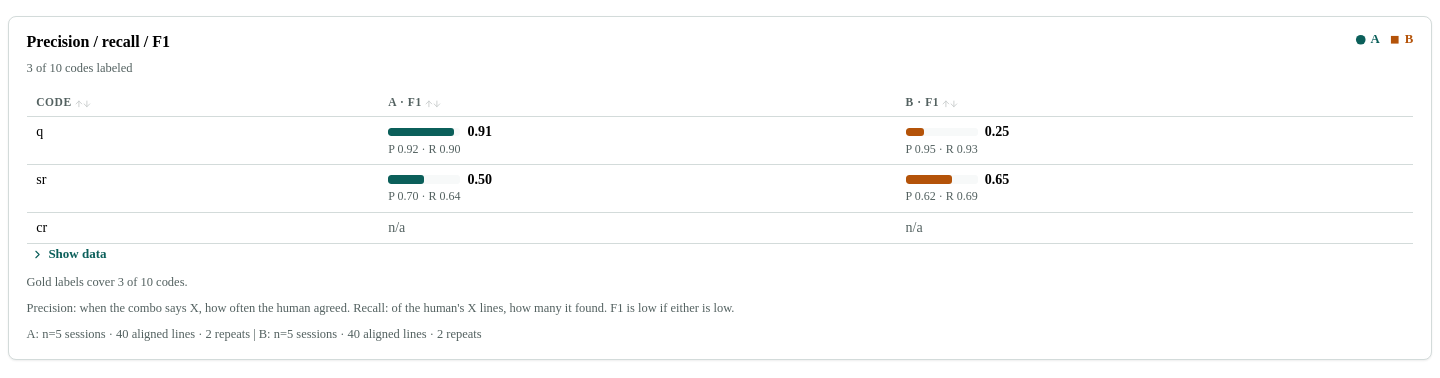
sorts by a combo F1 column
The width and height of the screenshot is (1440, 378).
Later steps or results of the test are not shown.
Click the column heading "A · F1" at x=637, y=103, box 379,89 -> 896,116
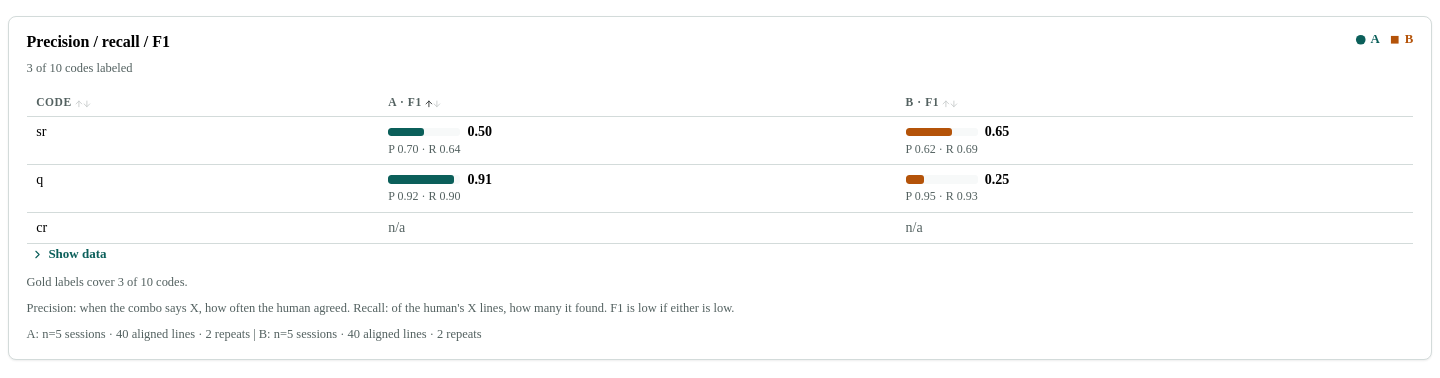
Click the column heading "A · F1" at x=637, y=103, box 379,89 -> 896,116
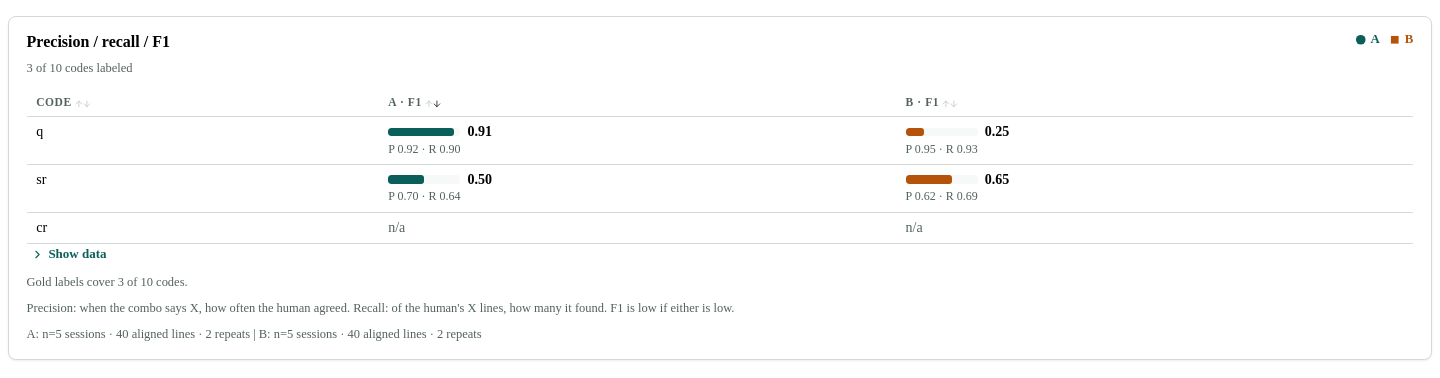
Check: the column heading "A · F1" has attribute aria-sort="descending", box 379,89 -> 896,116
